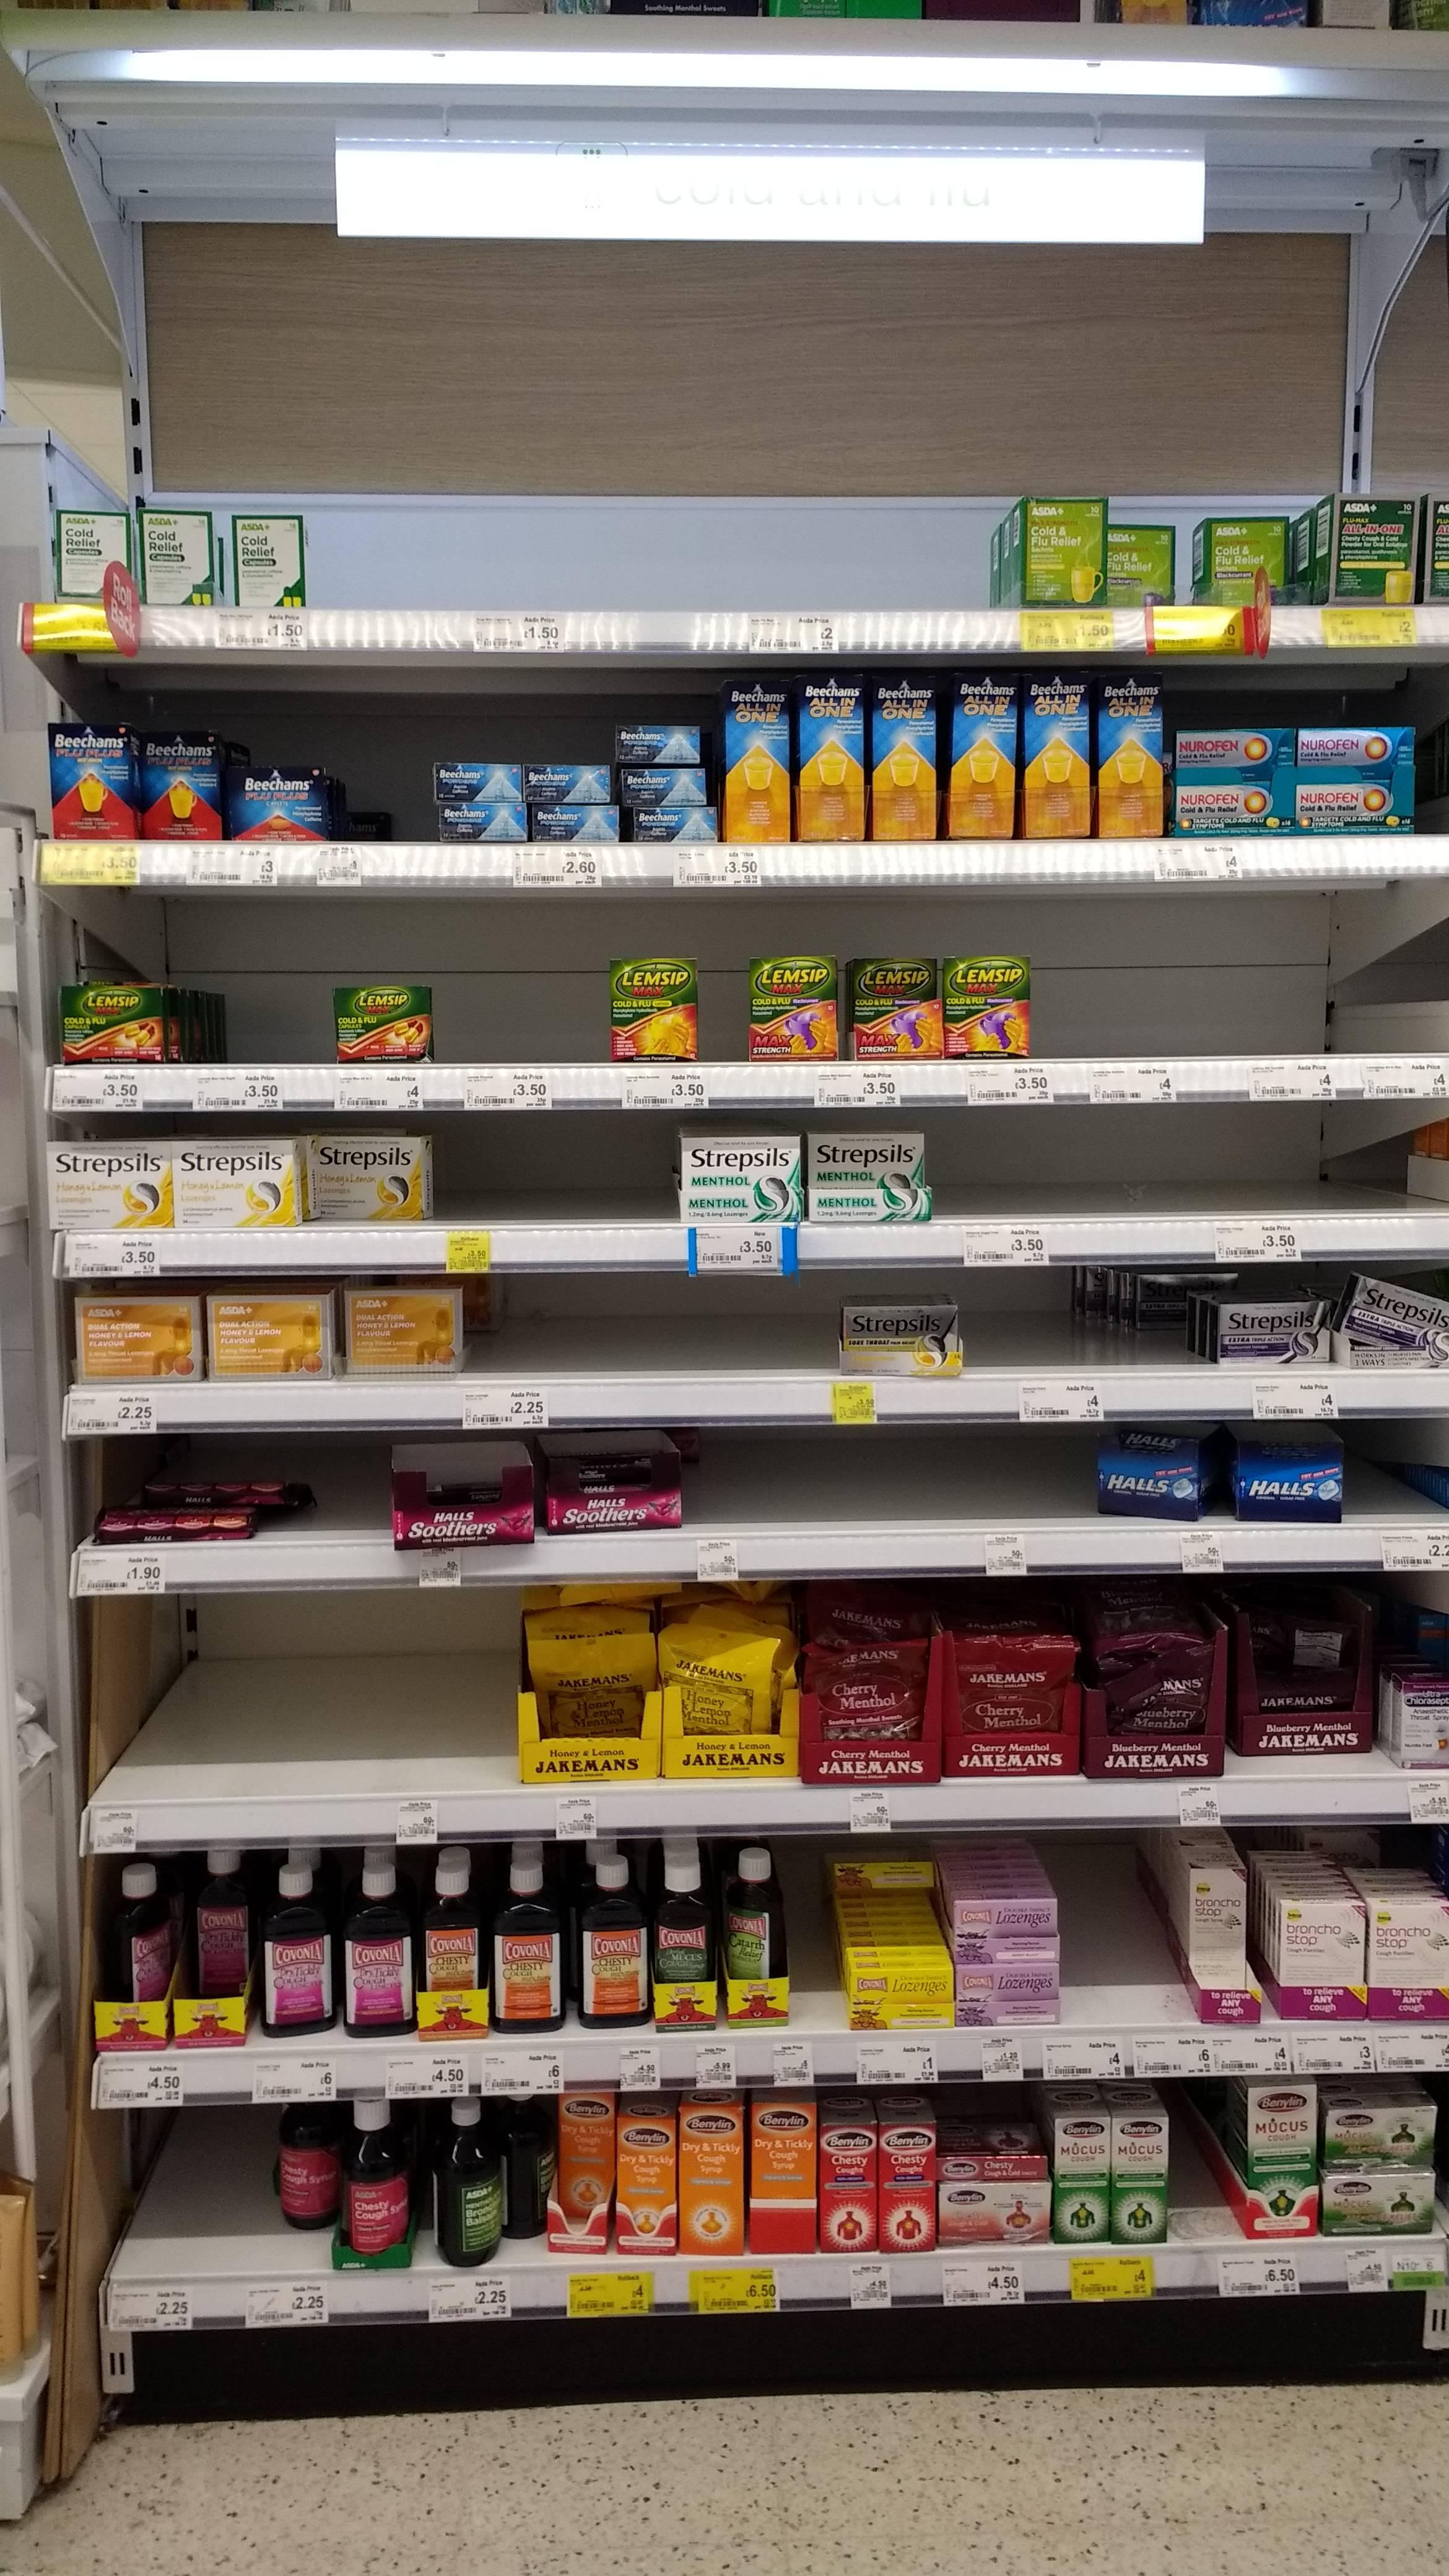empty: (333, 508, 982, 602), (177, 1614, 502, 1773), (943, 1122, 1396, 1200), (1040, 954, 1352, 1049), (711, 1440, 1067, 1520), (517, 1286, 832, 1366), (455, 934, 602, 1049), (140, 2127, 264, 2263), (448, 1131, 658, 1210), (1067, 1849, 1164, 2001), (359, 683, 433, 846), (234, 932, 320, 1056), (982, 1274, 1069, 1359), (1173, 2088, 1221, 2229), (1359, 1415, 1421, 1522)
misalignment: (380, 1444, 536, 1550), (550, 2091, 616, 2254)
